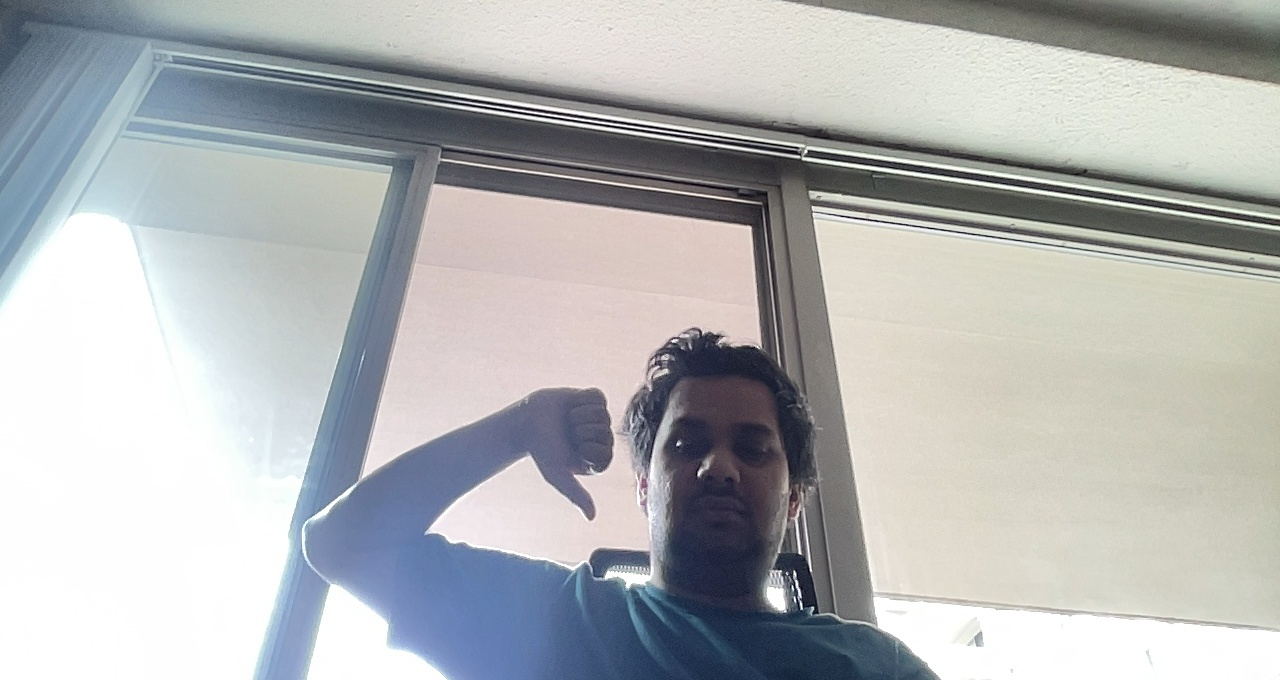thumbsdown: (514, 380, 622, 530)
